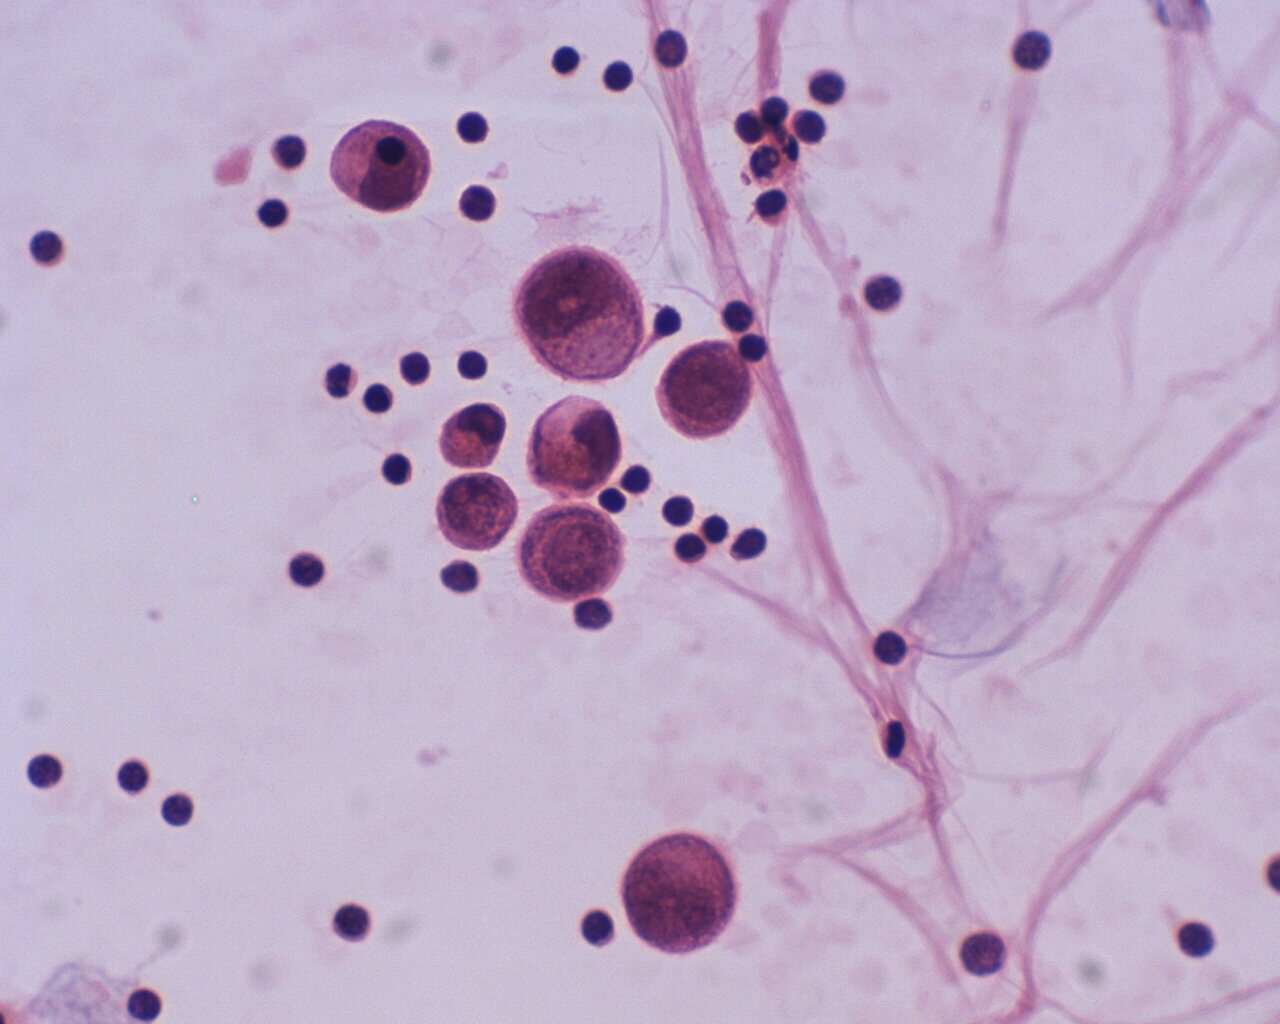ab: (512, 240, 649, 382), (620, 821, 738, 960), (519, 498, 635, 601), (523, 391, 627, 504), (652, 338, 753, 447), (432, 470, 520, 556), (436, 394, 511, 470)
lymph: (1006, 22, 1057, 80), (26, 222, 76, 276), (19, 749, 75, 796), (450, 101, 501, 149), (863, 630, 916, 675), (391, 342, 440, 390), (264, 127, 312, 174), (577, 906, 622, 956), (329, 898, 376, 945), (108, 757, 156, 799), (374, 446, 416, 491), (545, 43, 590, 82), (157, 790, 200, 828), (360, 376, 398, 419), (655, 491, 699, 528), (453, 349, 496, 383), (601, 59, 639, 95), (255, 192, 290, 231)
